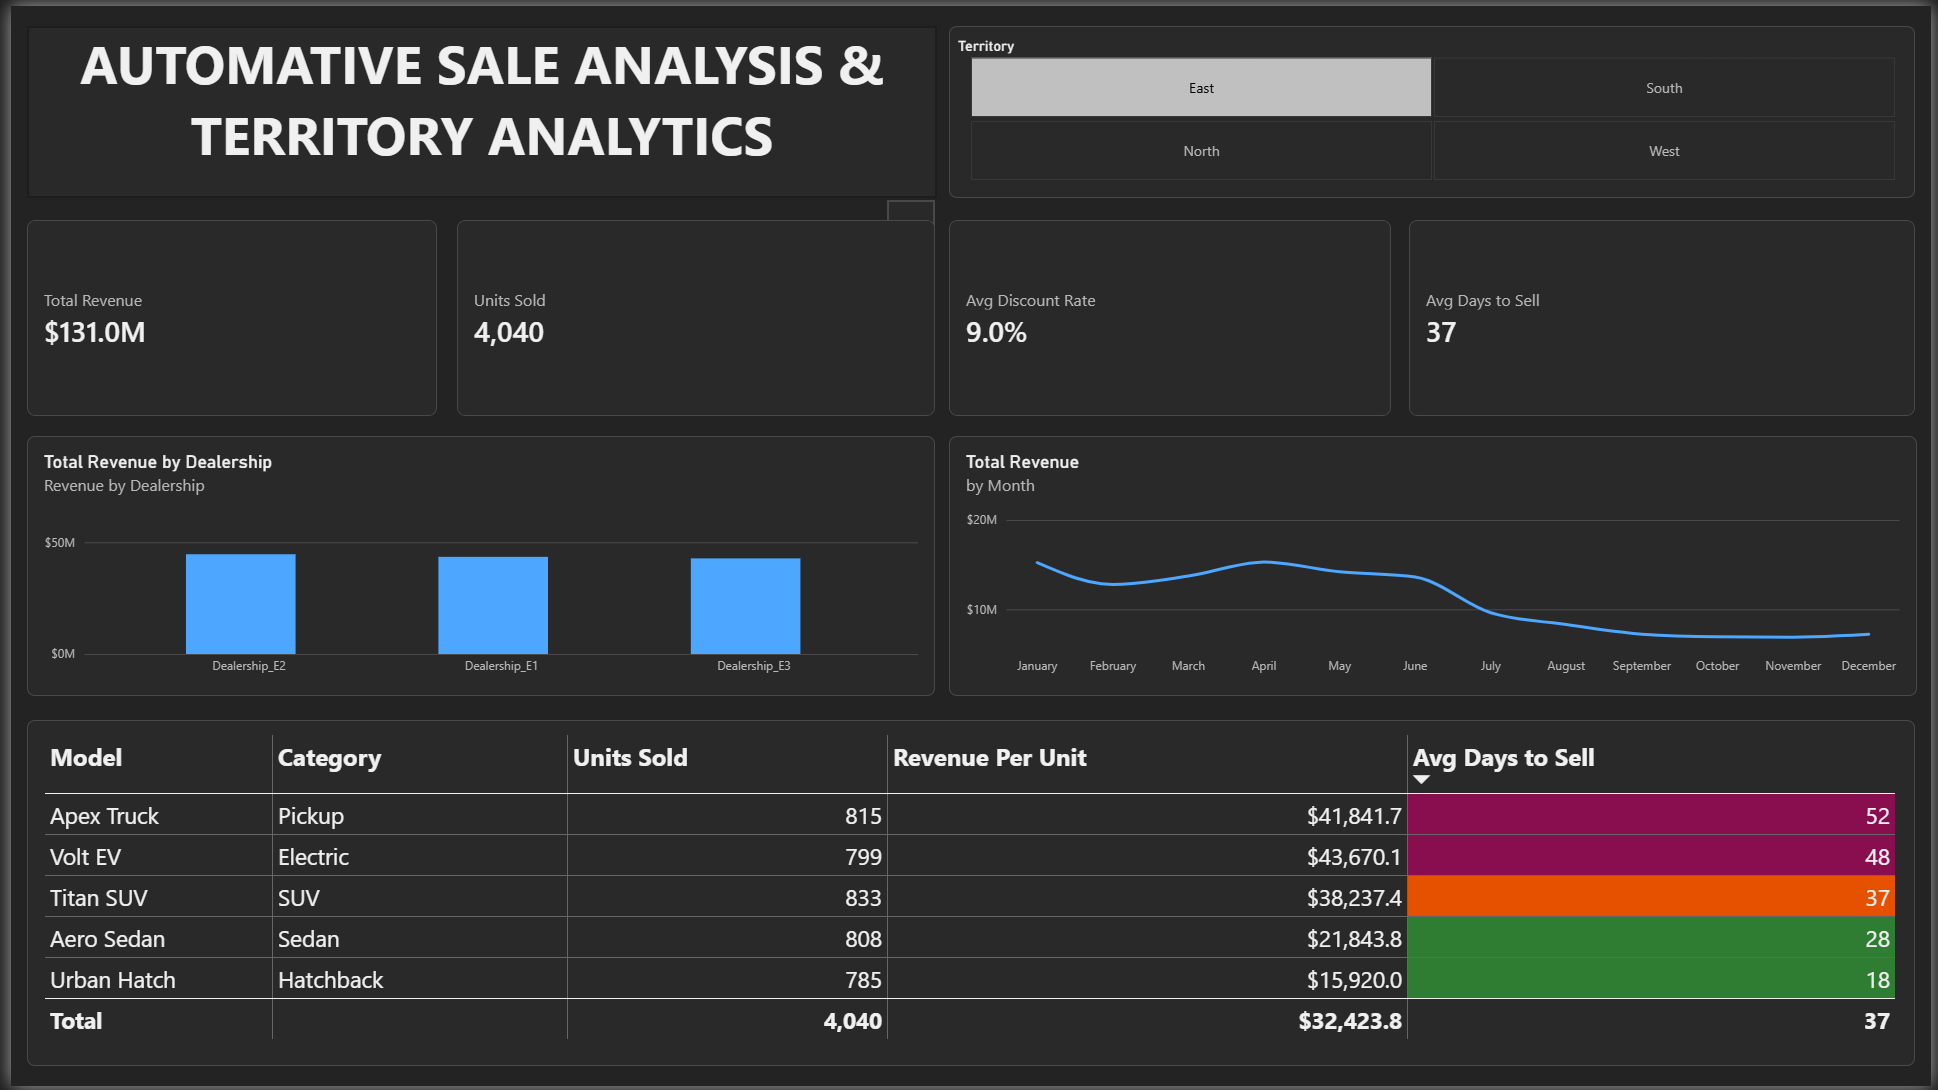

What the dashboard file says about the page in this screenshot:
{"tool":"powerbi","page":{"name":"Page 1","canvas":[1920,1080],"ordinal":0},"visuals":[{"type":"textbox","box":[16,20,910,172],"z":0},{"type":"slicer","fields":{"Values":["Dim_Dealership.Territory"]},"box":[938,20,966,172],"z":1000},{"type":"cardVisual","fields":{"Data":["_Measures.Total Revenue"]},"box":[16,214,410,196],"z":2000},{"type":"cardVisual","fields":{"Data":["_Measures.Avg Discount Rate"]},"box":[938,214,442,196],"z":3000},{"type":"cardVisual","fields":{"Data":["_Measures.Avg Days to Sell"]},"box":[1398,214,506,196],"z":4000},{"type":"cardVisual","fields":{"Data":["_Measures.Units Sold"]},"box":[446,214,478,196],"z":5000},{"type":"clusteredColumnChart","title":"Total Revenue by Dealership","fields":{"Category":["Dim_Dealership.Dealership"],"Y":["_Measures.Total Revenue"]},"box":[16,430,908,260],"z":6000},{"type":"lineChart","fields":{"Category":["Dim_Date.Date.Variation.Date Hierarchy.Month","Dim_Date.Date.Variation.Date Hierarchy.Day"],"Y":["_Measures.Total Revenue"]},"box":[938,430,968,260],"z":7000},{"type":"actionButton","box":[0,0,100,40],"z":8000},{"type":"tableEx","fields":{"Values":["Dim_Vehicle.Model","Dim_Vehicle.Category","_Measures.Units Sold","_Measures.Revenue Per Unit","_Measures.Avg Days to Sell"]},"box":[16,714,1888,346],"z":9000}]}

Visuals, with their boxes in screenshot pixels (x1, y1, x2, y2), scaled from the page's 1920x1080 canvas onto the 1938x1090 screenshot:
textbox: select_region(16, 20, 935, 194)
slicer - Dim_Dealership.Territory: select_region(947, 20, 1922, 194)
cardVisual - _Measures.Total Revenue: select_region(16, 216, 430, 414)
cardVisual - _Measures.Avg Discount Rate: select_region(947, 216, 1393, 414)
cardVisual - _Measures.Avg Days to Sell: select_region(1411, 216, 1922, 414)
cardVisual - _Measures.Units Sold: select_region(450, 216, 933, 414)
"Total Revenue by Dealership" clusteredColumnChart: select_region(16, 434, 933, 696)
lineChart - Dim_Date.Date.Variation.Date Hierarchy.Month x Dim_Date.Date.Variation.Date Hierarchy.Day: select_region(947, 434, 1924, 696)
actionButton: select_region(0, 0, 101, 40)
tableEx - Dim_Vehicle.Model x Dim_Vehicle.Category: select_region(16, 721, 1922, 1070)
